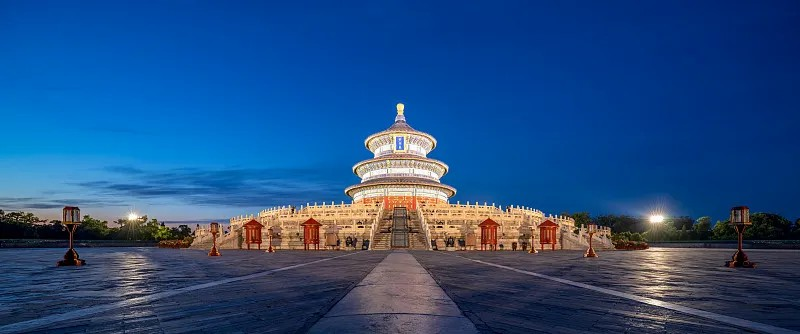Heaven: (343, 103, 456, 204)
